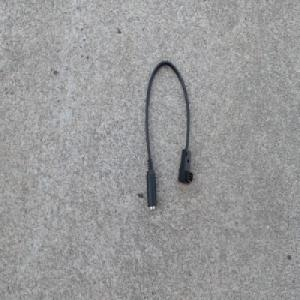Wire: (143, 59, 194, 212)
